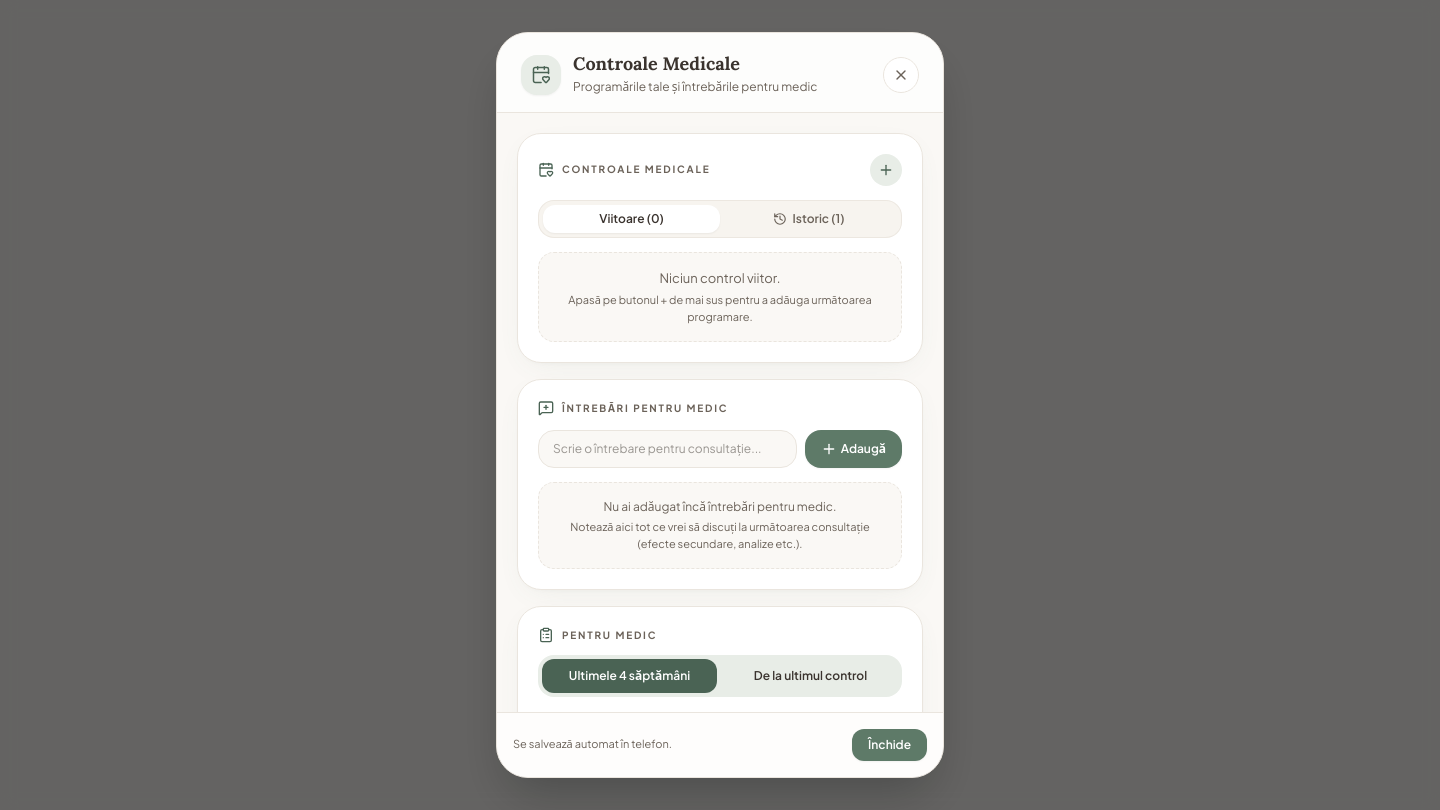
Test case: În „Pentru medic” › cu un control trecut, se poate alege perioada de la ultimul control
This screenshot has width=1440, height=810.
Click the button "De la ultimul control" at (810, 676), box [723, 659, 898, 693]
(page scrolled)
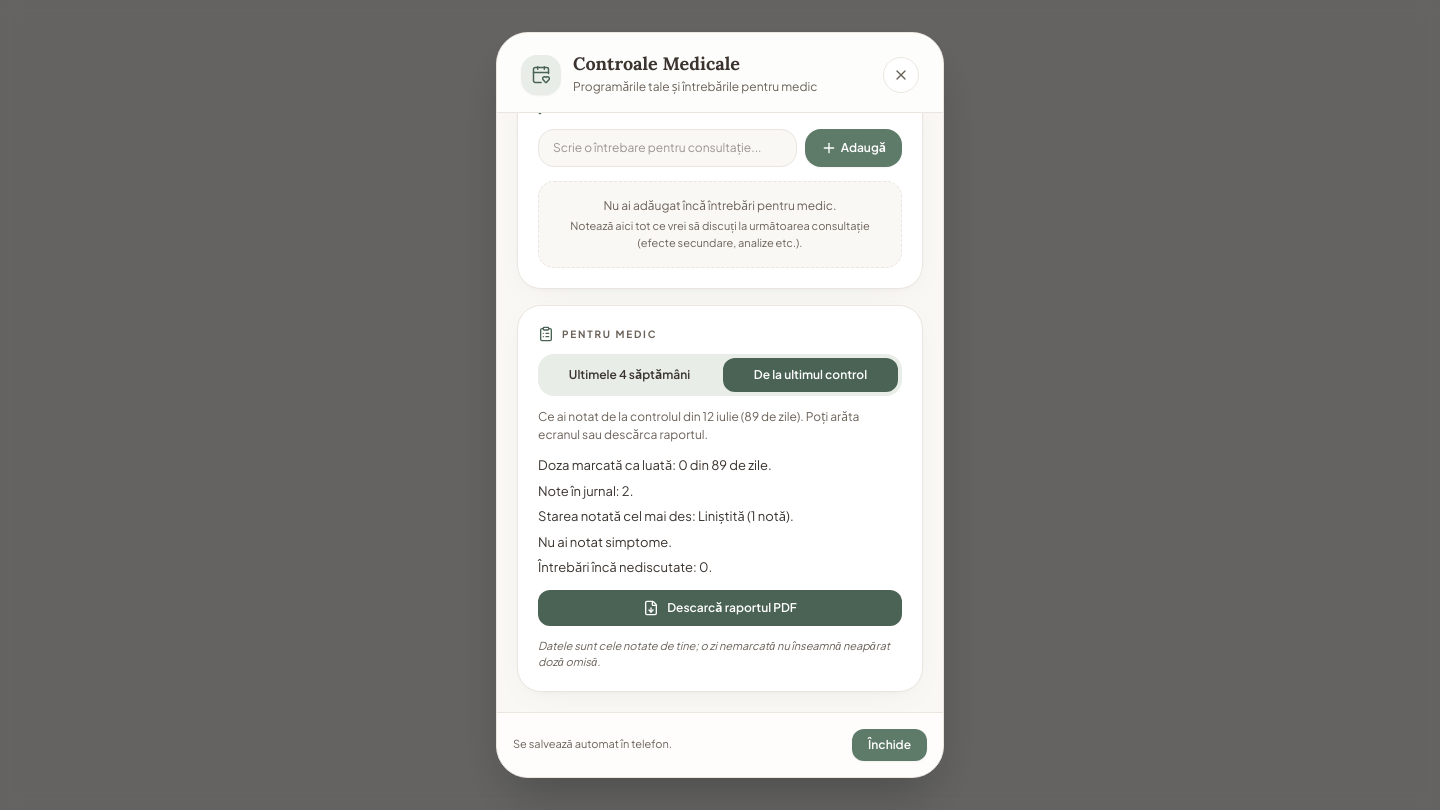
Check: the text "Ce ai notat de la controlul din 12 iulie (89 de zile). Poți arăta ecranul sau descărca raportul." is shown, box [538, 409, 859, 442]
Check: the list item "Note în jurnal: 2." is shown, box [538, 483, 633, 499]
Check: the list item "Starea notată cel mai des: Liniștită (1 notă)." is shown, box [538, 508, 794, 524]
